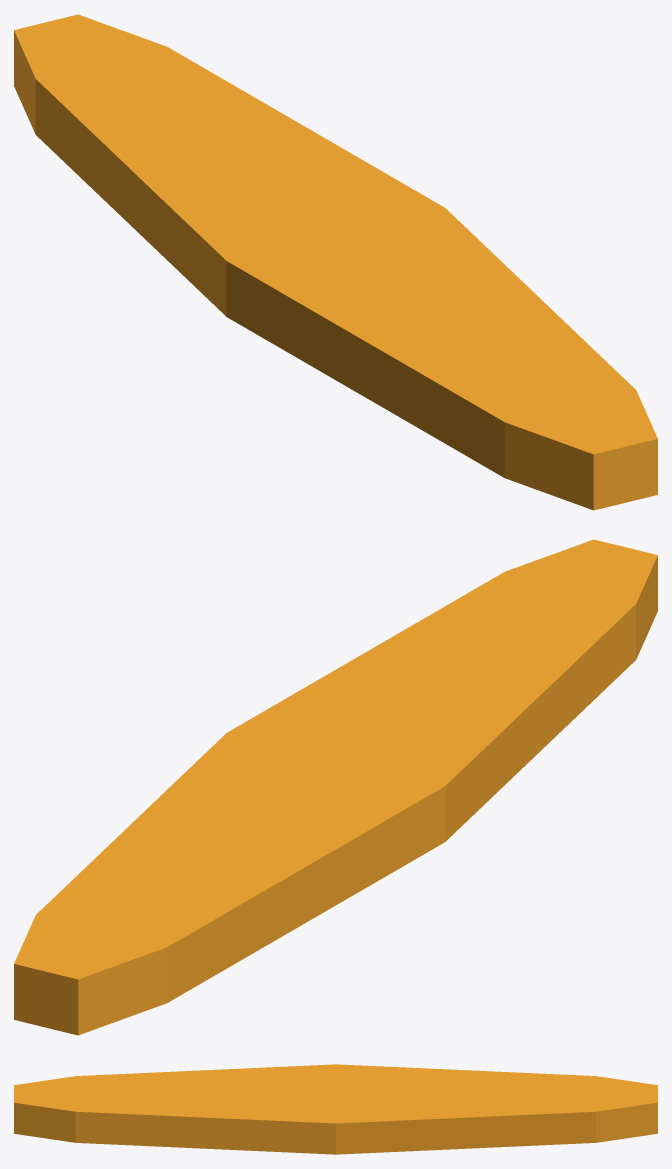
The model's file is SM_Whetstone.fbx.
3 views of the same model, one above another, from view 1: azimuth 30°, elevation 25°; view 2: azimuth 150°, elevation 25°; view 3: azimuth 270°, elevation 25° (orthographic). The views are drawn at different scales.
Parts seen in each view (by area): view 1: whetstone; view 2: whetstone; view 3: whetstone.
Boxes of the visible parts, x1,y1,x2,y2 form: whetstone: (14,14,657,510); whetstone: (14,539,657,1035); whetstone: (14,1064,657,1154).
Size of the model in its own units: 0.05 by 0.0123 by 0.2299.
